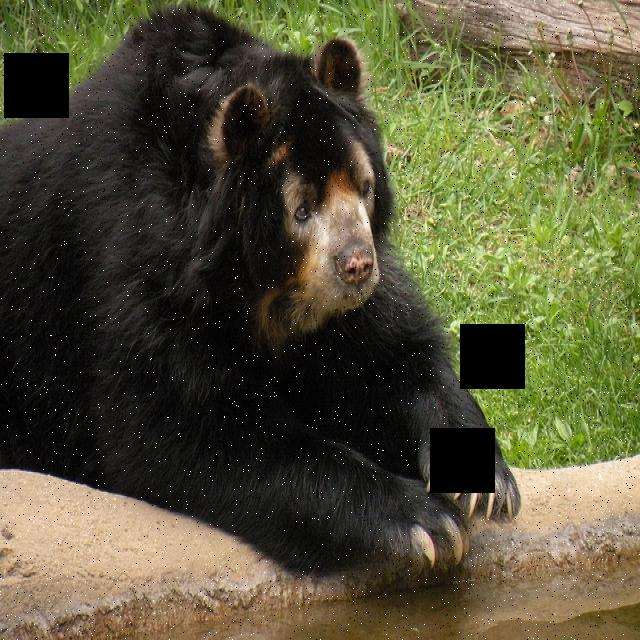Bear: (6, 8, 524, 572)
